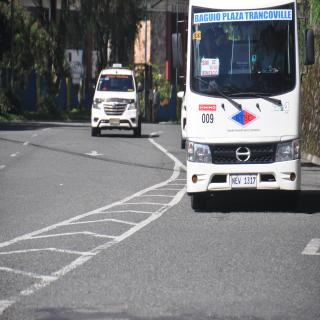license: (232, 176, 257, 188)
